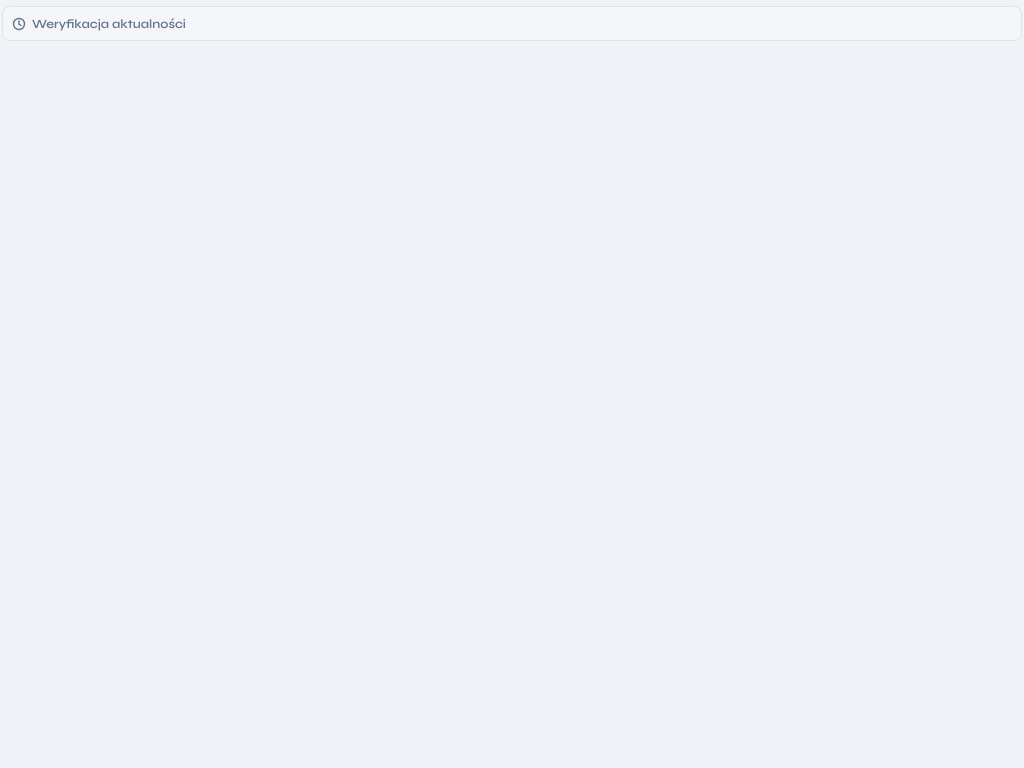
Scenario: ActualityReviewPanel › pusta lista pokazuje komunikat "Wszystkie notatki są aktualne"
Click the button "Weryfikacja aktualności": click(109, 24) [2,6,1022,41]
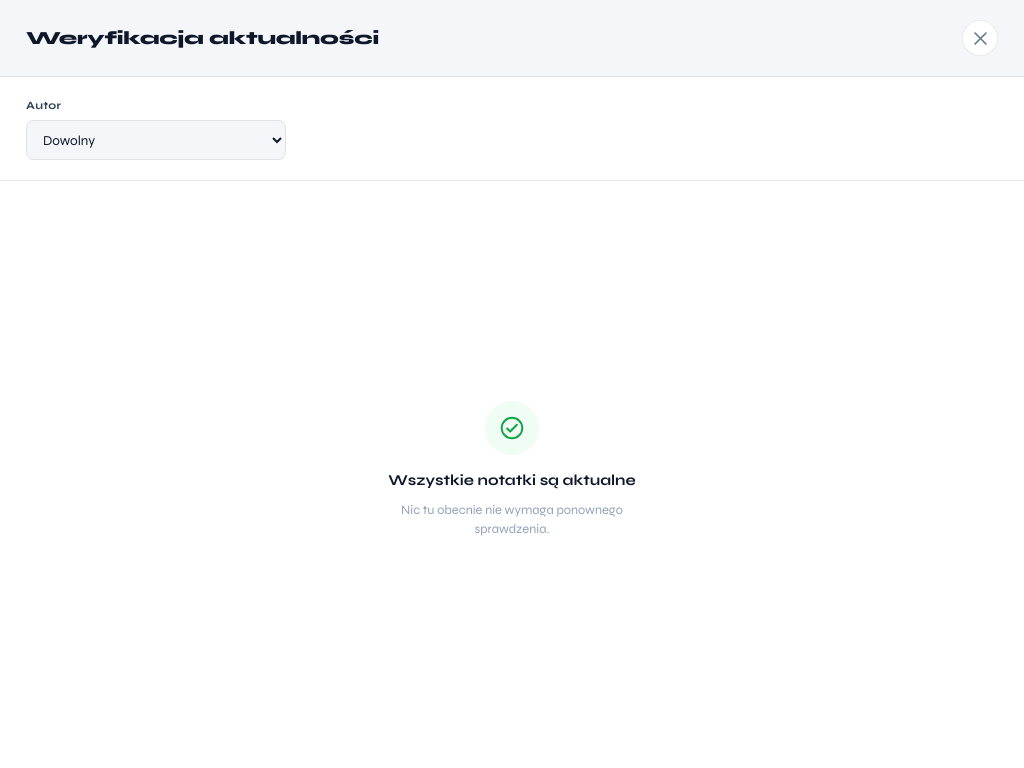
Expected: the dialog "Weryfikacja aktualności" is shown
Expected: the text "Wszystkie notatki są aktualne" is shown, [388,469,636,492]
